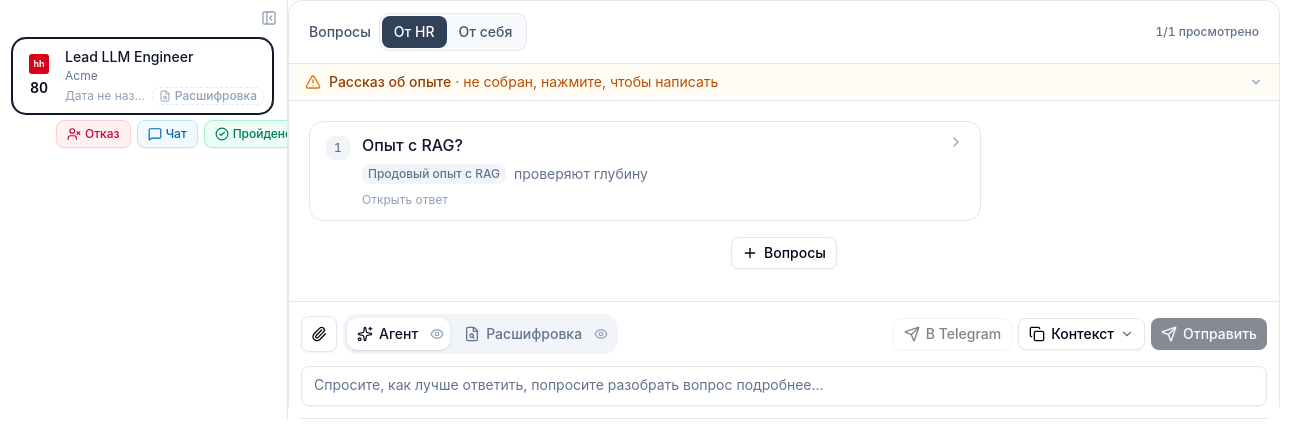
Scenario: per-vacancy экран — «Рассказ об опыте» закреплён вверху ленты › без рассказа шапка предлагает написать его, вопросы остаются
The image size is (1292, 436).
Expected: the text "· не собран, нажмите, чтобы написать" is shown, [451,73,718,90]
Expected: the text "Опыт с RAG?" is shown, [362,134,463,156]
Click the button "От себя" at (485, 32), box [446,16,524,48]
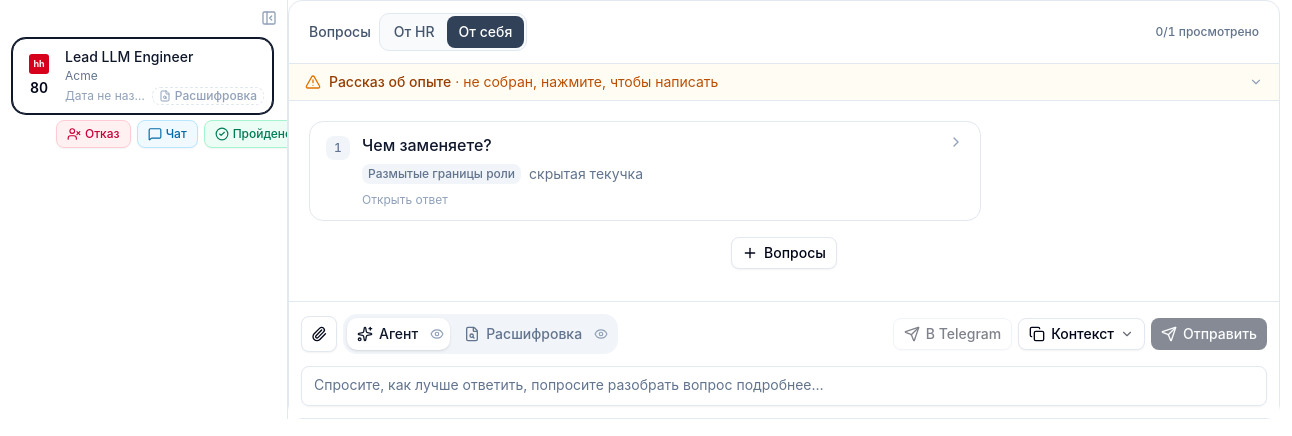
Expected: the text "Чем заменяете?" is shown, [362,134,492,156]
